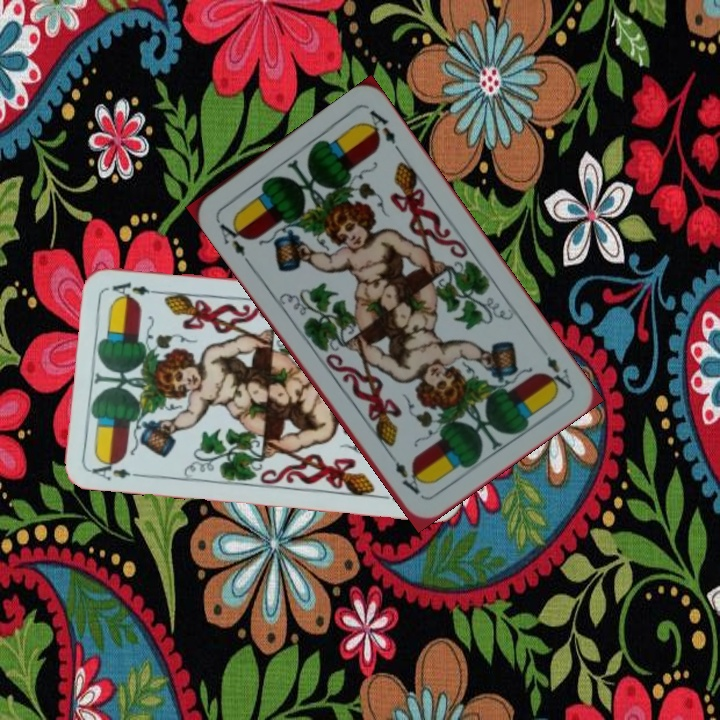EA: (88, 455, 147, 483), (215, 215, 250, 259), (541, 351, 575, 393)
